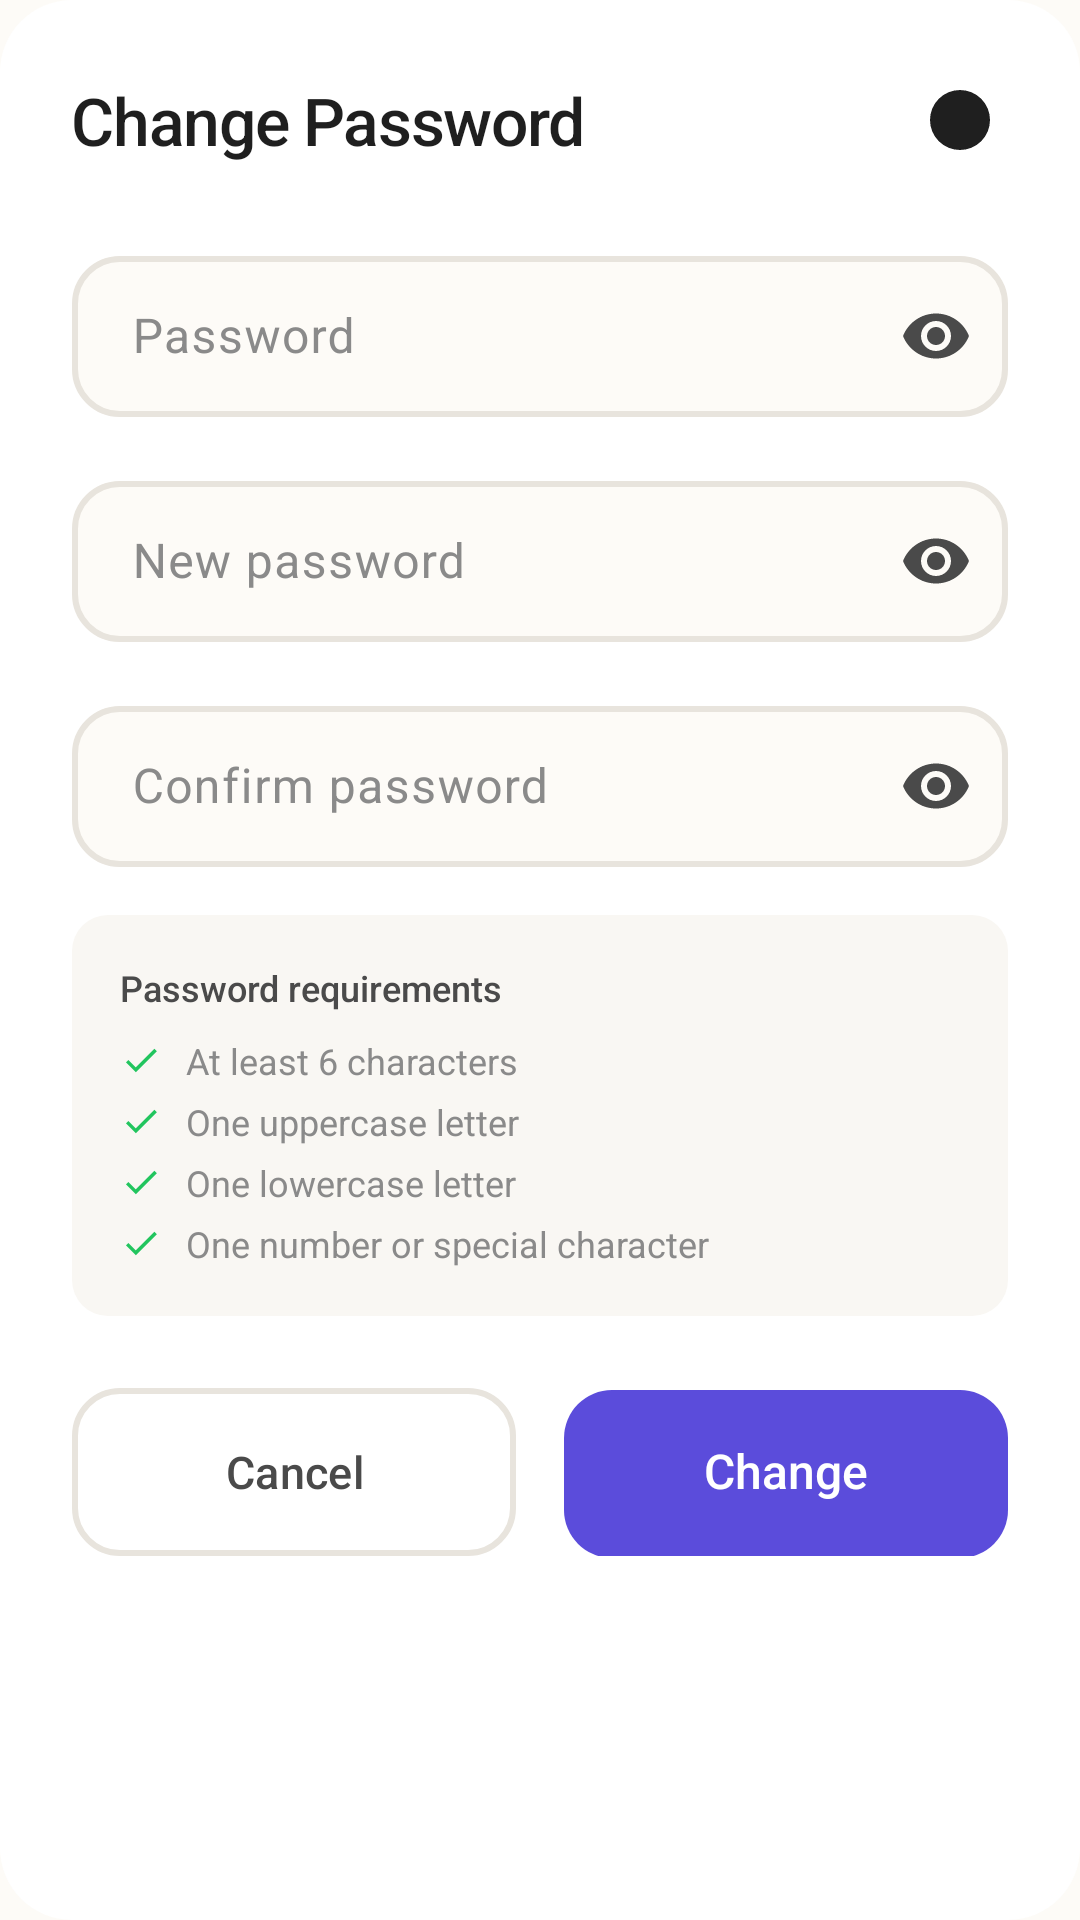

Where to tap for icons on this 1080*1920 app screen, as (x,y):
check: (141,1060), (141,1121), (141,1182), (141,1243)
